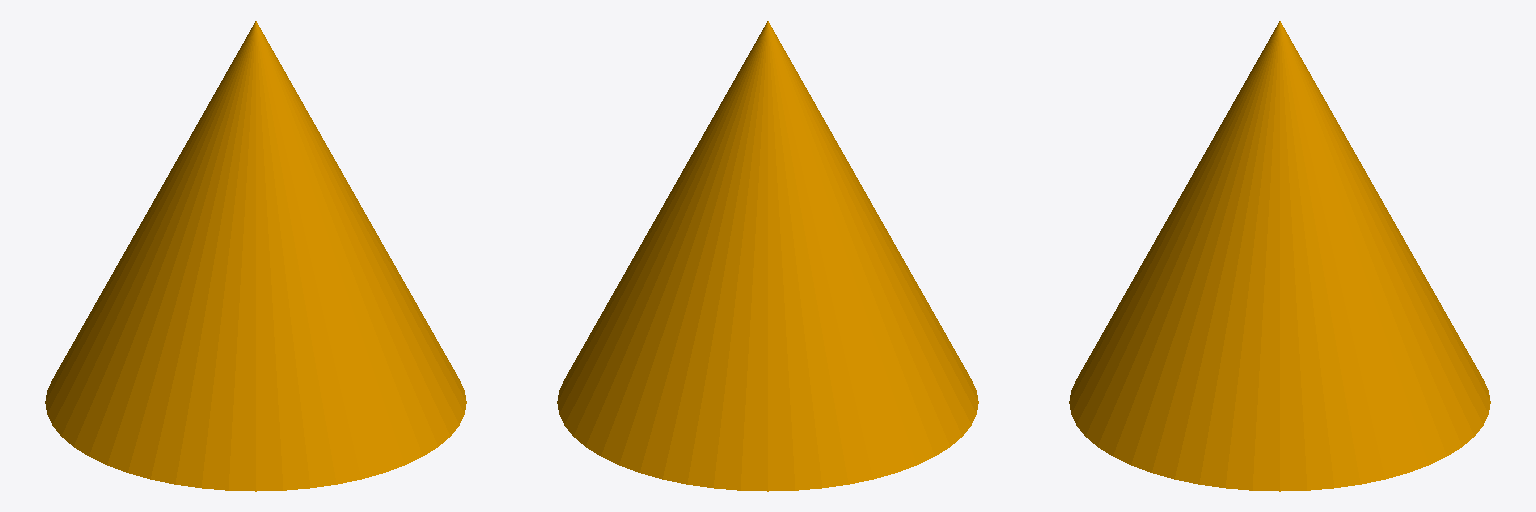
URDF robot description (object):
<?xml version="1.0"?>
<!-- Auto-generated by tools/gen_primitive_objects.py. kind=cone dims=(0.05, 0.1) -->
<robot name="object">
  <link name="object">
    <visual>
      <origin xyz="0 0 0"/>
      <geometry>
        <mesh filename="obj_0.stl"/>
      </geometry>
    </visual>
    <collision>
      <origin xyz="0 0 0"/>
      <geometry>
        <mesh filename="obj_0.stl"/>
      </geometry>
    </collision>
    <inertial>
      <origin xyz="0 0 -0.025000"/>
      <mass value="0.052360"/>
      <inertia ixx="0.00003927" ixy="0.0" ixz="0.0" iyy="0.00003927" iyz="0.0" izz="0.00003927"/>
    </inertial>
  </link>
</robot>

--- What the picture shows (computed from the rendered views, not written in the file) ---
The picture shows the robot from 3 angles, left to right: view 1: azimuth 30°, elevation 25°; view 2: azimuth 150°, elevation 25°; view 3: azimuth 270°, elevation 25°; orthographic projection.
Robot: object — 1 links, 0 joints (none); root link object; default pose: all joints at 0.
Links seen in each view (by area): view 1: object; view 2: object; view 3: object.
Link boxes in pixels (bbox=[...]): object: bbox=[45, 21, 466, 491]; object: bbox=[557, 21, 978, 491]; object: bbox=[1069, 21, 1490, 491].
Size in the robot's own frame: 0.1 by 0.1 by 0.1 metres.
1 mesh visuals loaded from 1 distinct referenced files (1 binary STL).
